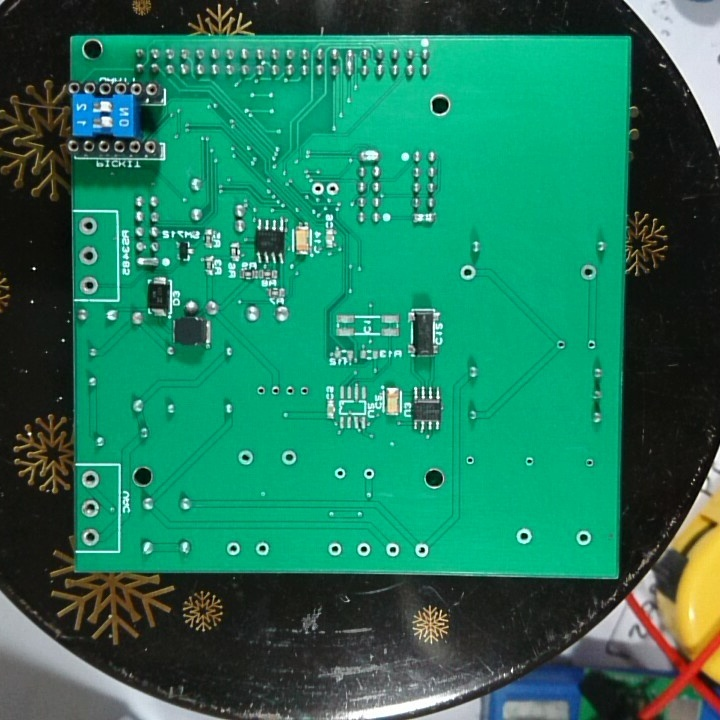F: (76, 243, 100, 269), (79, 468, 103, 491), (76, 273, 101, 295), (76, 216, 99, 238), (79, 498, 101, 520), (279, 446, 299, 469), (236, 447, 256, 469), (573, 529, 593, 550), (515, 526, 534, 548), (459, 263, 479, 283), (412, 541, 432, 561), (80, 526, 103, 543), (360, 463, 379, 483), (255, 539, 273, 560), (579, 262, 598, 281), (330, 464, 349, 483), (355, 540, 373, 559), (325, 540, 344, 558), (384, 540, 401, 560), (325, 178, 340, 199), (224, 540, 244, 555), (298, 382, 313, 399), (254, 383, 269, 399), (310, 181, 325, 197), (523, 455, 538, 470), (585, 338, 599, 352), (284, 384, 297, 399), (269, 384, 281, 400), (554, 338, 567, 352), (583, 457, 596, 471), (464, 454, 476, 467)
P: (410, 211, 438, 226), (343, 47, 356, 79), (358, 146, 381, 164), (135, 255, 161, 269)
